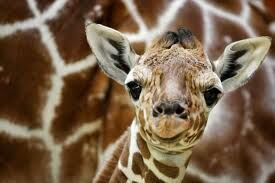Jirafa: (80, 9, 241, 165)
